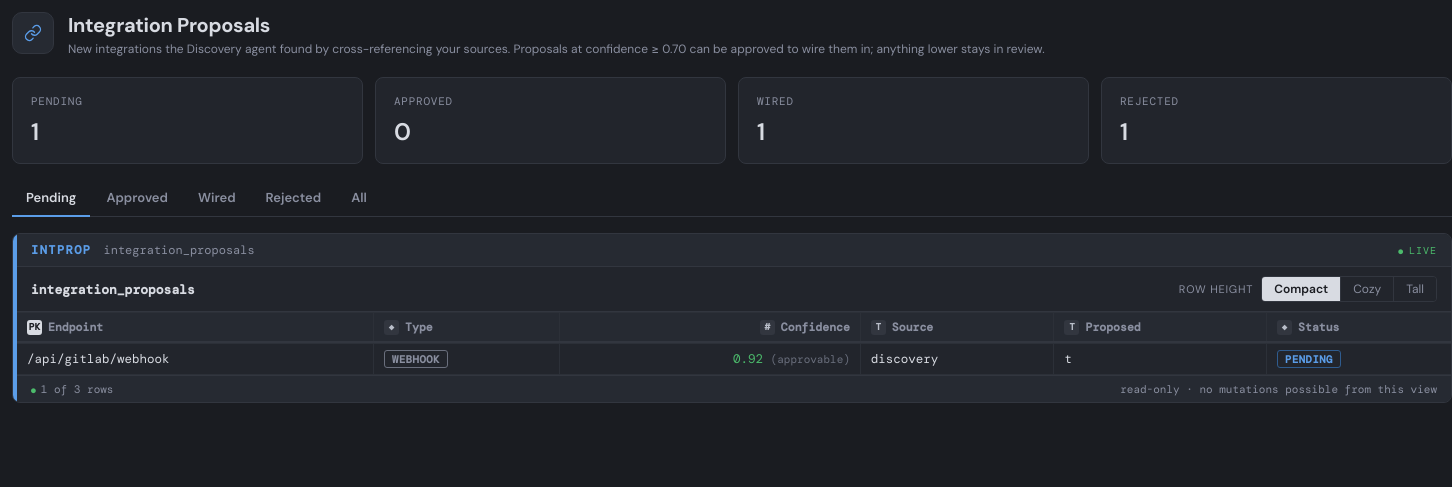
Scenario: Intprops page — Phase 3 design-system rebuild (TRK-198/TRK-215 lineage) › shows a filter-zero EmptyState with a Show all action when a tab has no matching proposals
Expected: the text "/api/gitlab/webhook" is shown, left=17, top=344, right=374, bottom=374
Click the tab "Approved". click: x=137, y=198
box: left=92, top=180, right=182, bottom=217
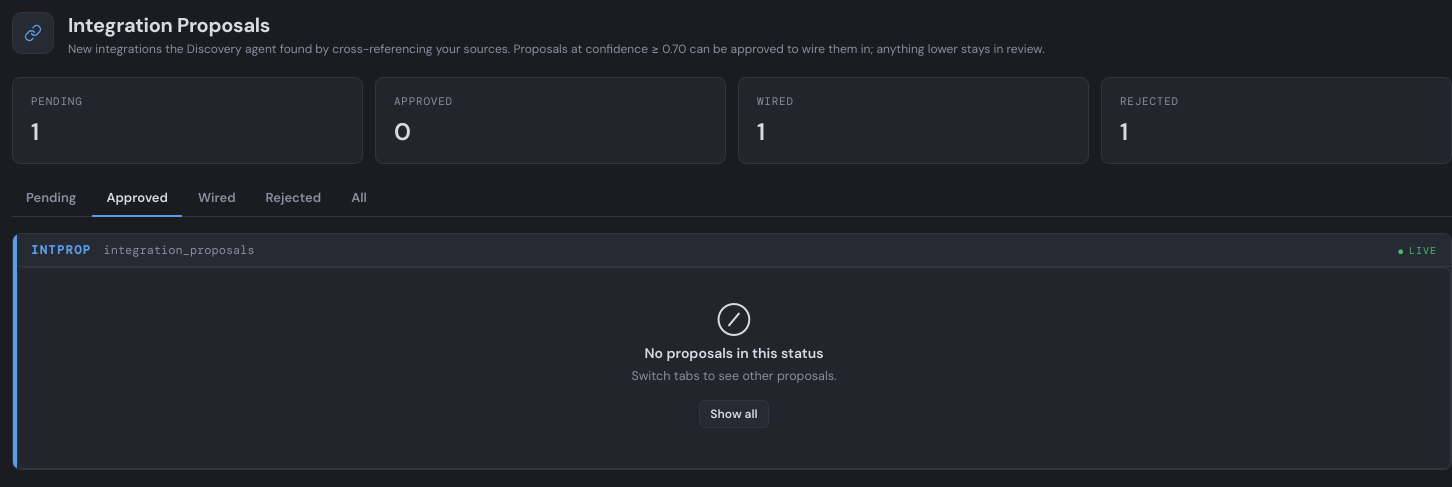
Expected: the text "No proposals in this status" is shown, left=644, top=344, right=824, bottom=362
Expected: the button "Show all" is shown, left=699, top=400, right=769, bottom=428
